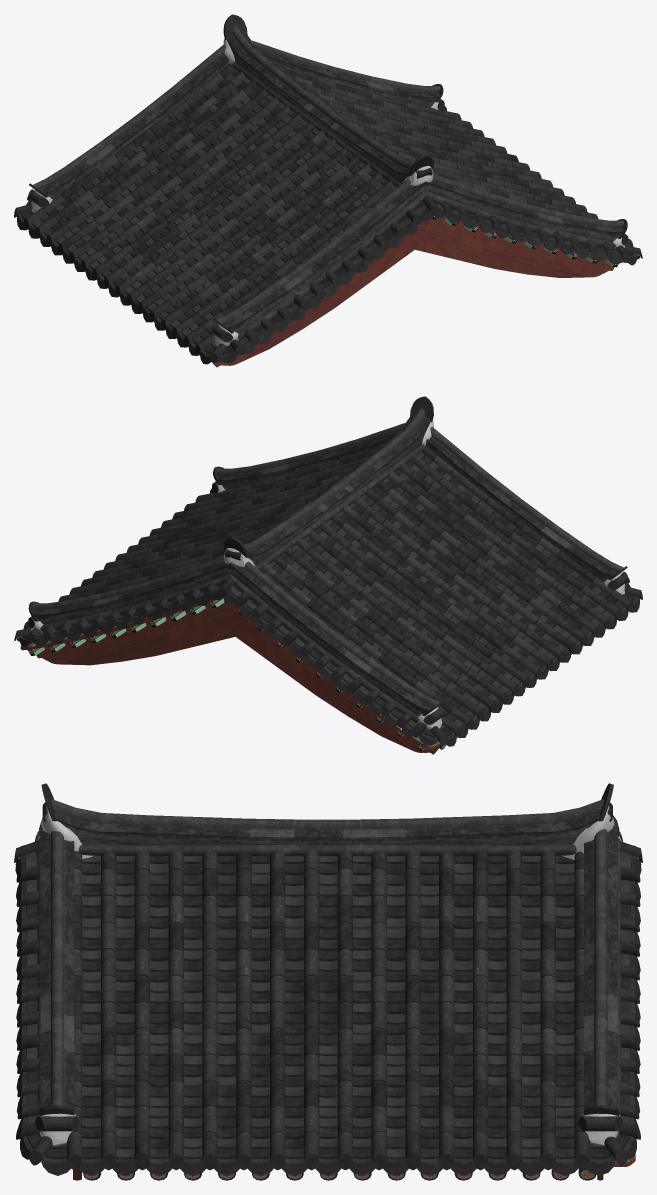
Rendered from SM_Giwa02E_d.fbx.
3 renders of one model, top to bottom at view 1: azimuth 30°, elevation 25°; view 2: azimuth 150°, elevation 25°; view 3: azimuth 270°, elevation 25°, orthographic. The views are drawn at different scales.
Visible parts, largest first — view 1: SM_Giwa02E_d; view 2: SM_Giwa02E_d; view 3: SM_Giwa02E_d.
Boxes of the visible parts, x1=… form: SM_Giwa02E_d: x1=14, y1=14, x2=642, y2=367; SM_Giwa02E_d: x1=14, y1=396, x2=642, y2=754; SM_Giwa02E_d: x1=14, y1=783, x2=642, y2=1180.
Size of the model in its own units: 673 by 571 by 258.
